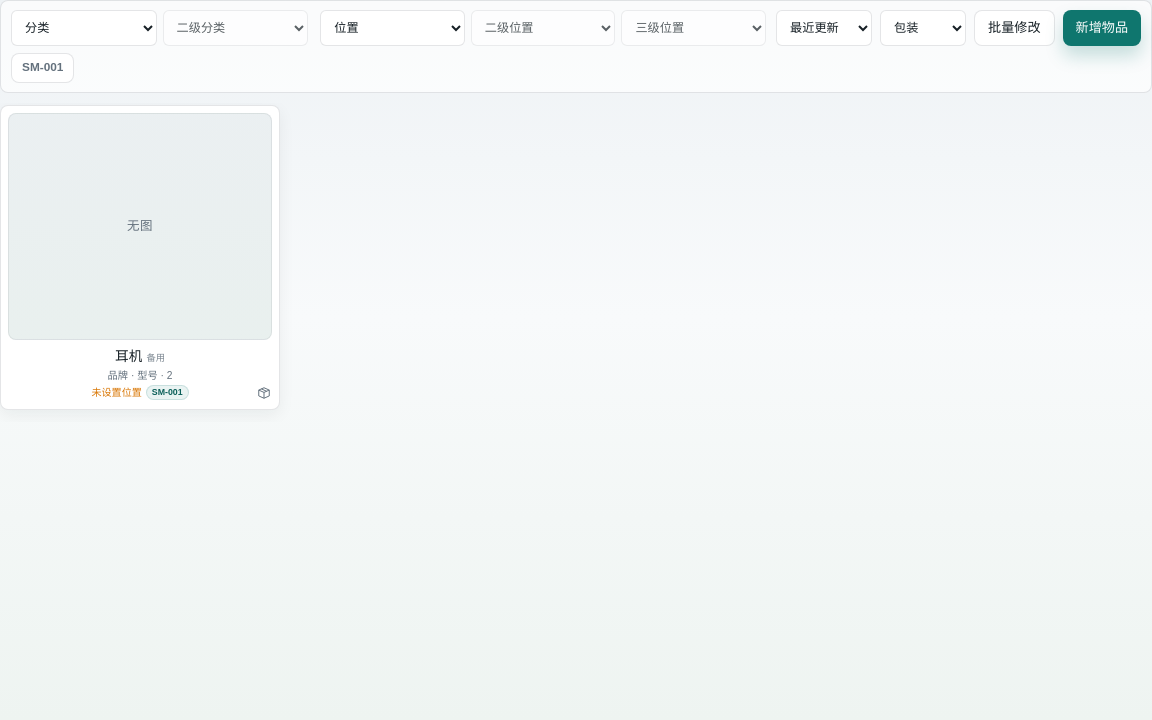
Test: copy a saved item into a new draft › copies the saved version rather than silently carrying unsaved edits across
This screenshot has width=1152, height=720.
Click the button "无图 耳机 备用 品牌 · 型号 · 2 未设置位置 SM-001" at (140, 257), box [0,105,280,410]
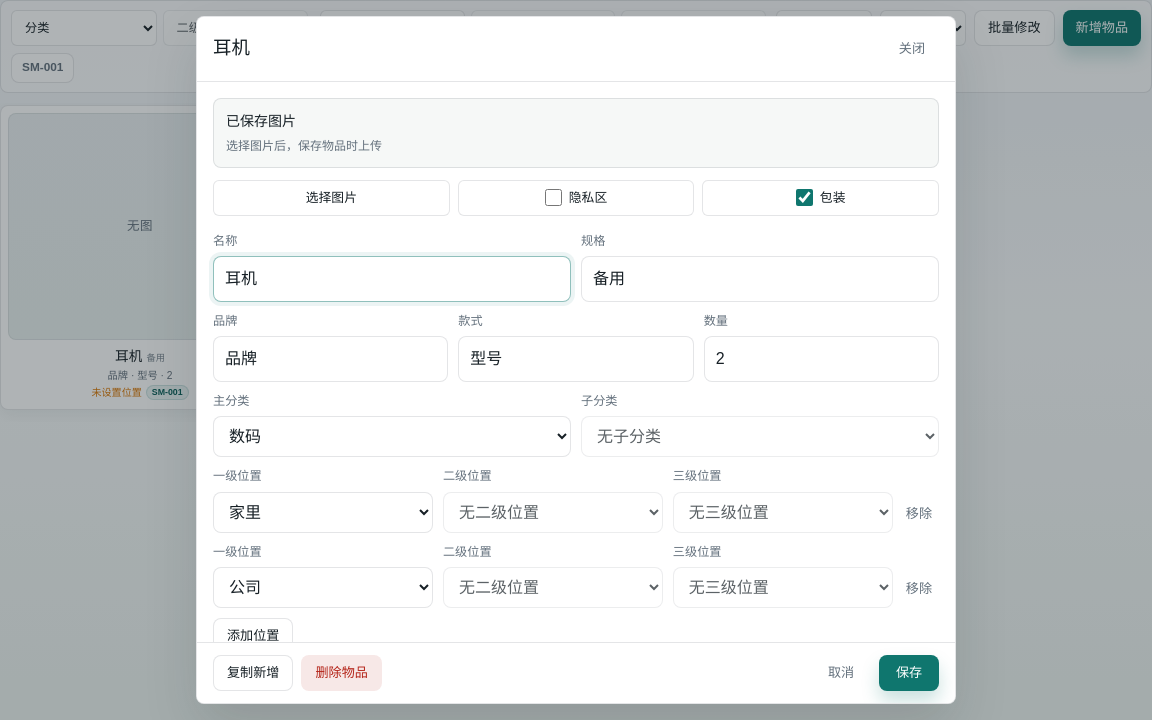
Replace the text in the field labelled "规格" with "尚未保存" at (760, 279), box [581,256,939,302]
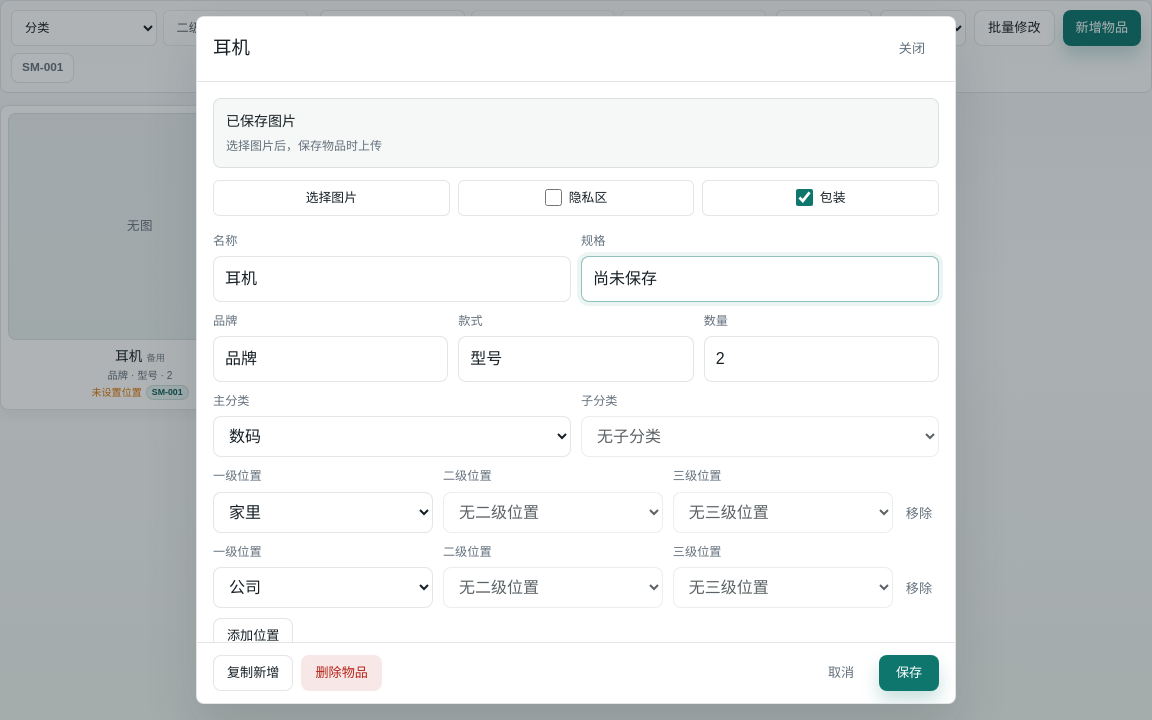
Click the button "复制新增" at (253, 673), box [213,655,294,691]
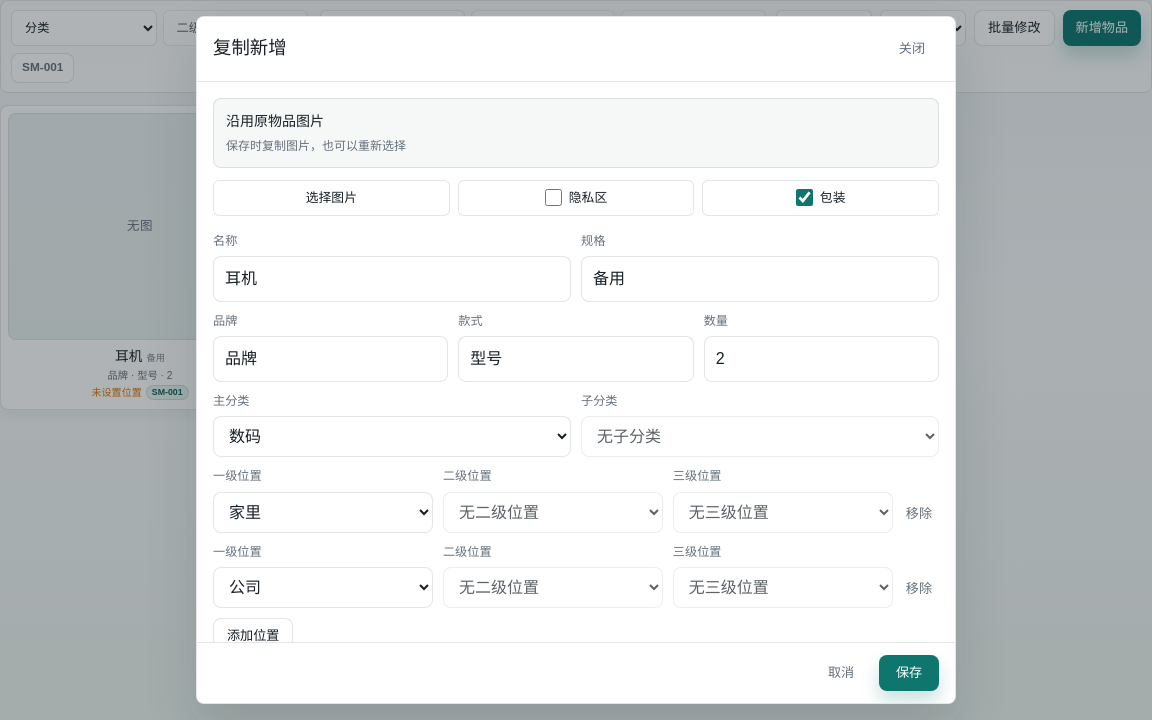
Now the field labelled "规格" holds "备用", box [581,256,939,302]
